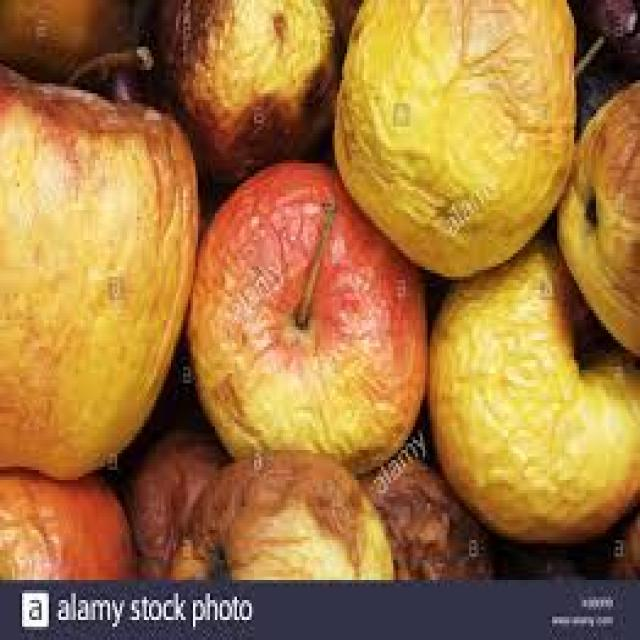biodegradable: (0, 0, 638, 577), (0, 39, 195, 473), (186, 157, 428, 473), (332, 0, 576, 273), (423, 230, 638, 527), (141, 0, 339, 173), (164, 450, 391, 573), (552, 74, 638, 354), (117, 417, 230, 577), (364, 454, 489, 574), (0, 469, 134, 573), (0, 0, 132, 73), (579, 0, 637, 77), (489, 533, 589, 577), (93, 50, 161, 107), (594, 500, 638, 573)
